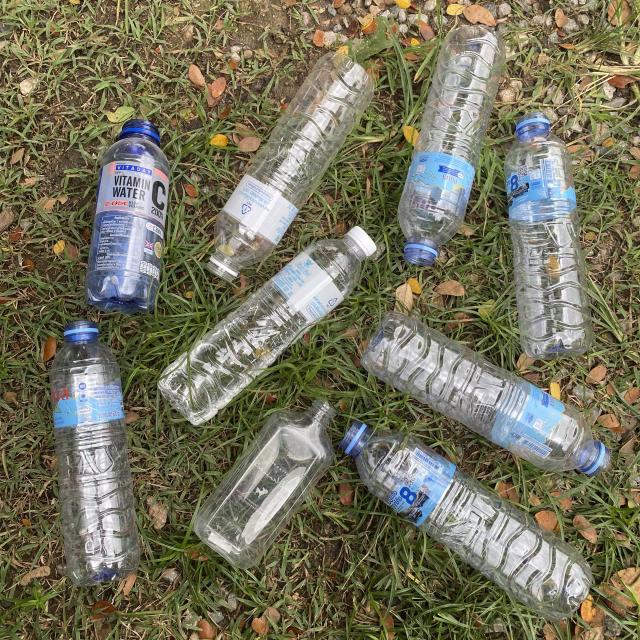plastik: (340, 421, 591, 621), (158, 226, 376, 425), (361, 311, 610, 475), (208, 52, 374, 281), (399, 25, 505, 266), (194, 399, 335, 569), (50, 321, 140, 586), (504, 112, 592, 360), (85, 120, 170, 314)
